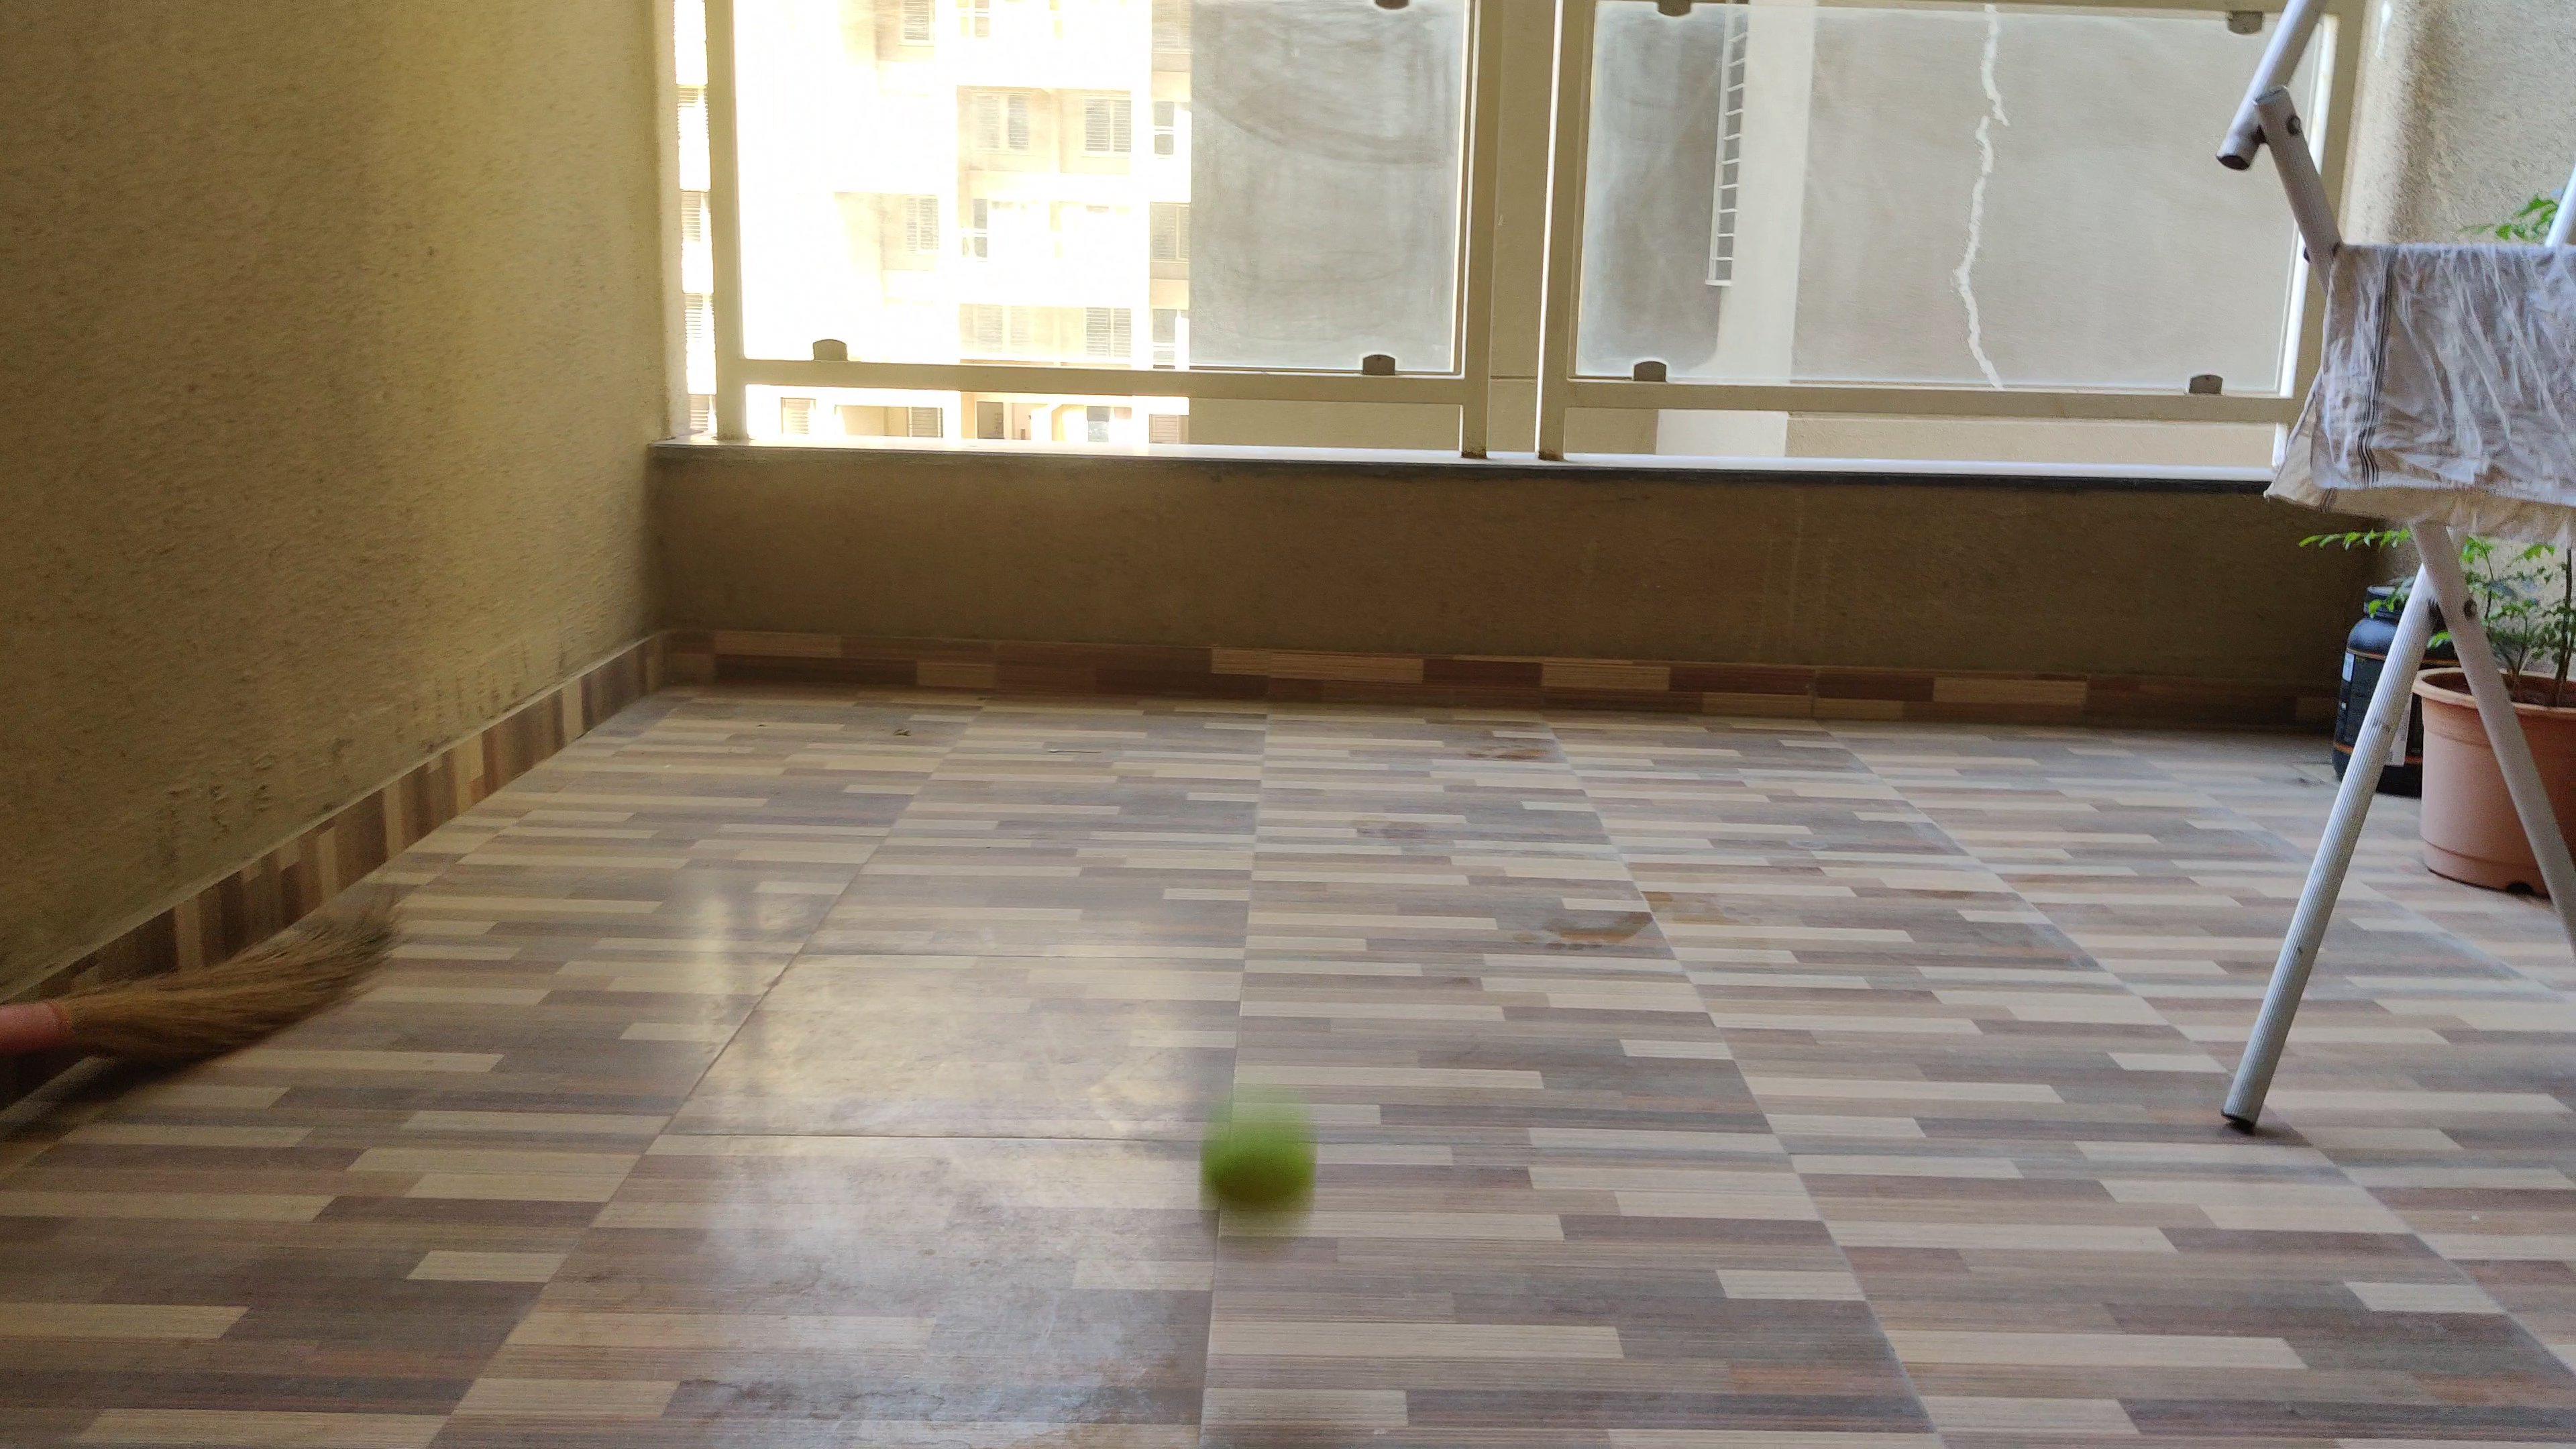Tennis-Ball: (1200, 1106, 1318, 1223)
